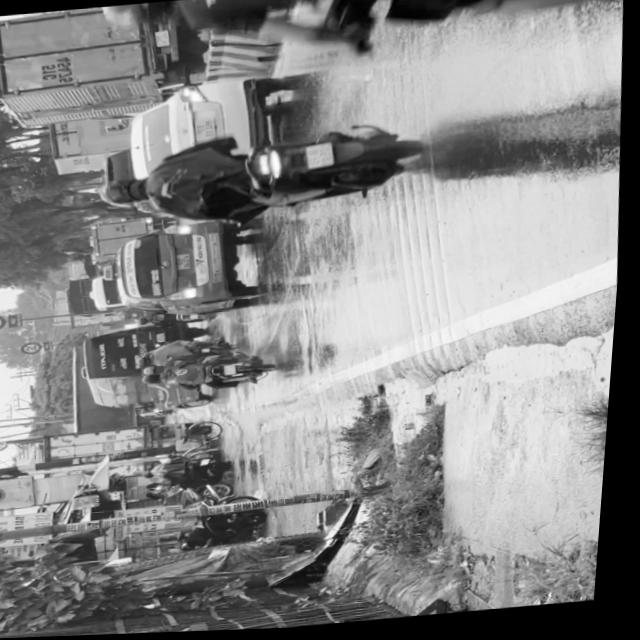helmet: (97, 2, 179, 31), (99, 176, 150, 208)
licenseplate: (87, 0, 621, 78), (92, 121, 428, 234)
nohelmet: (305, 145, 335, 171)
